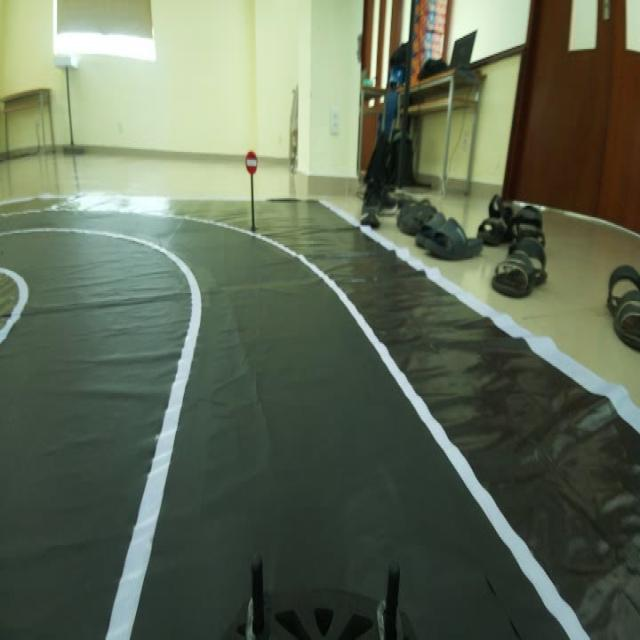no_entry: (243, 150, 262, 178)
